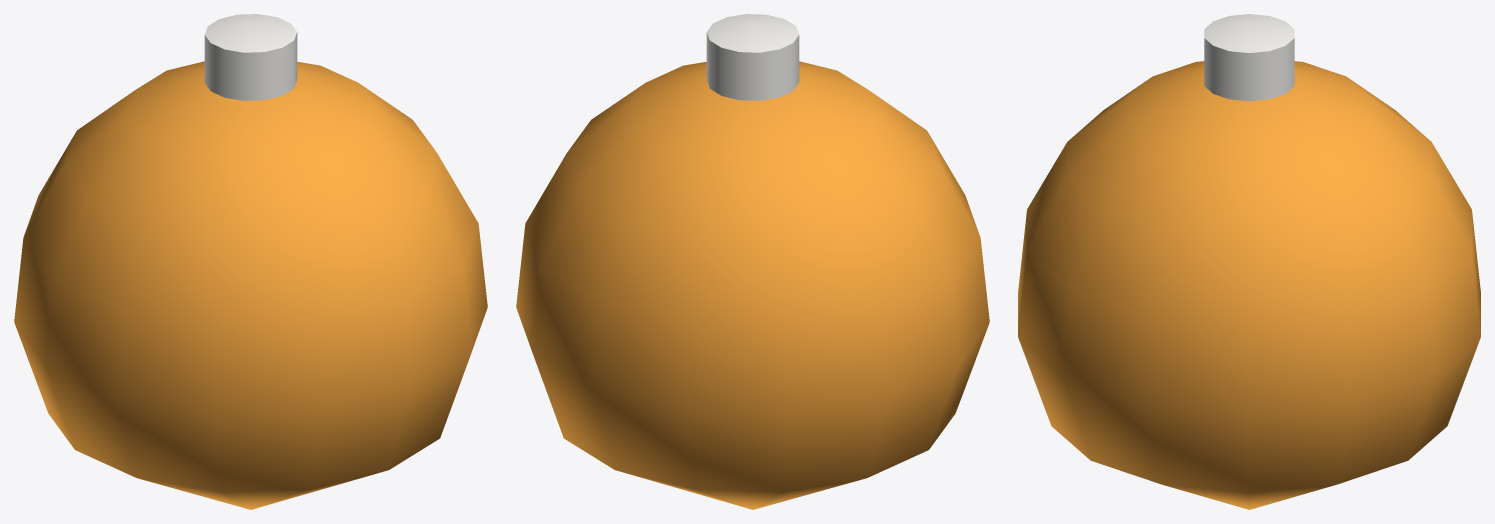
Rendered from SM_Buoy_Big.glb.
3 renders of one model, left to right at view 1: azimuth 30°, elevation 25°; view 2: azimuth 150°, elevation 25°; view 3: azimuth 270°, elevation 25°, orthographic.
Parts seen in each view (by area): view 1: SM_Buoy_Big; view 2: SM_Buoy_Big; view 3: SM_Buoy_Big.
Part boxes in pixels (left/top/right/bottom): SM_Buoy_Big: left=14, top=14, right=487, bottom=509; SM_Buoy_Big: left=516, top=14, right=989, bottom=509; SM_Buoy_Big: left=1018, top=14, right=1480, bottom=509.
Bounding box in the file's own units: 1.03 × 1.16 × 0.9994.
